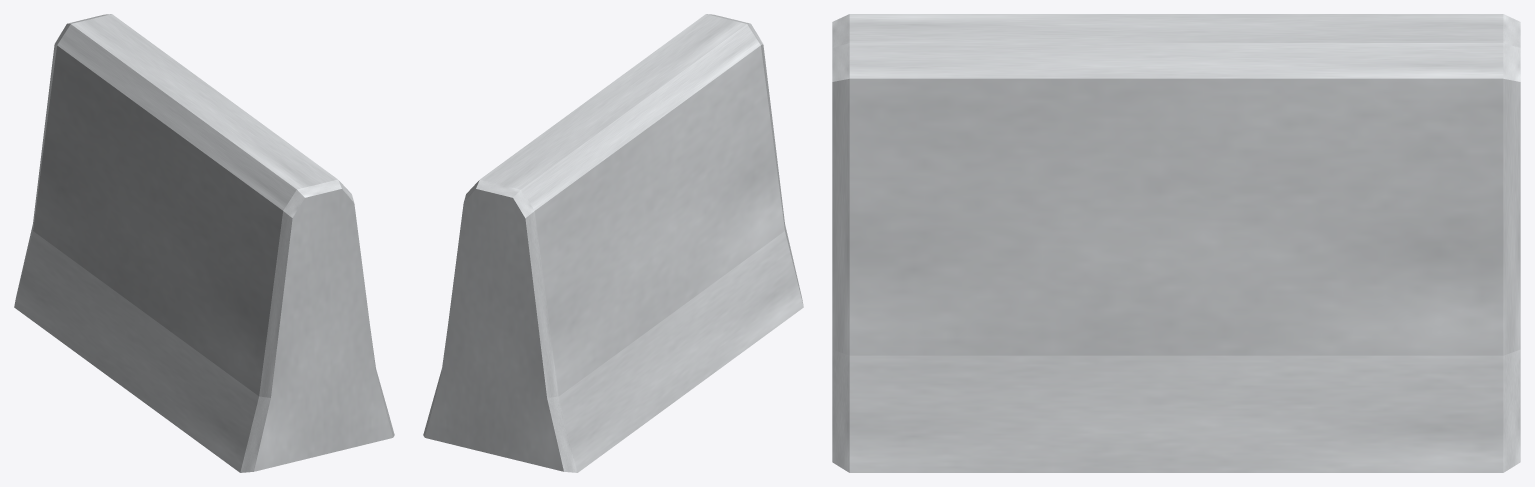
File: SM_Morin_NJPlastica_Bianca_LOD2.fbx
The picture shows the model from 3 angles, left to right: view 1: azimuth 30°, elevation 25°; view 2: azimuth 150°, elevation 25°; view 3: azimuth 270°, elevation 25°; orthographic projection. The views are drawn at different scales.
Visible parts, largest first — view 1: SM_Morin_NJPlastica_Bianca_LOD2; view 2: SM_Morin_NJPlastica_Bianca_LOD2; view 3: SM_Morin_NJPlastica_Bianca_LOD2.
Boxes of the visible parts, bbox=[...] form: SM_Morin_NJPlastica_Bianca_LOD2: bbox=[14, 14, 394, 472]; SM_Morin_NJPlastica_Bianca_LOD2: bbox=[423, 14, 803, 472]; SM_Morin_NJPlastica_Bianca_LOD2: bbox=[832, 14, 1520, 472].
Size of the model in its own units: 45 by 120 by 75.
Materials: 1 (1 with a texture image).
